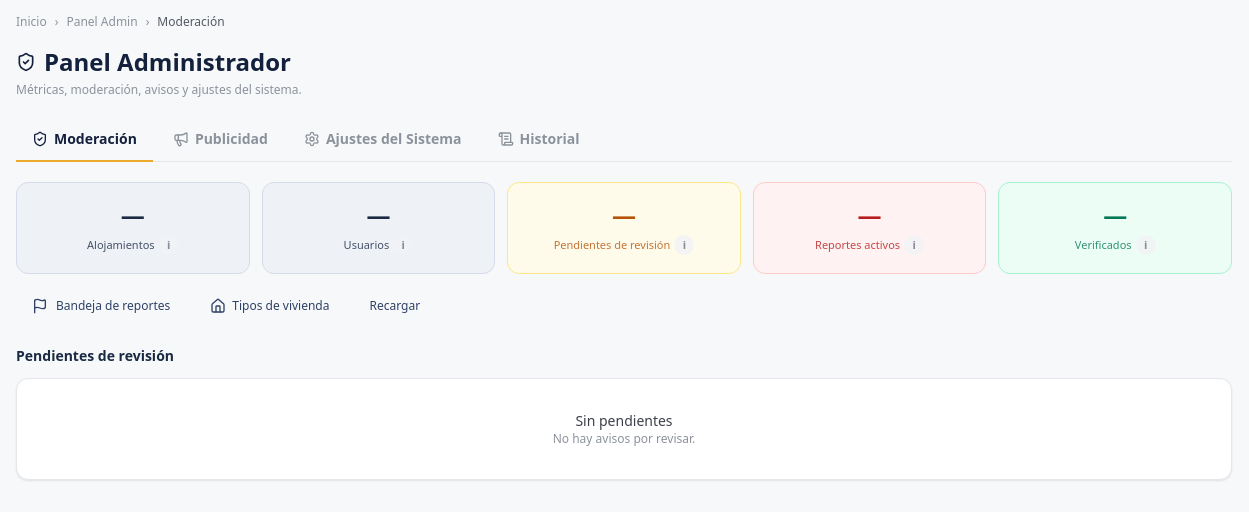
Test case: AdminDashboard - Ajustes del Sistema › M1 KPIs con usuarios + tooltips y badge PENDIENTE veraz
This screenshot has width=1249, height=512.
Check: the text "Usuarios" is shown, box [344,237,389,252]
Click the tab "Ajustes del Sistema" at point(383, 140), box [288,118,478,162]
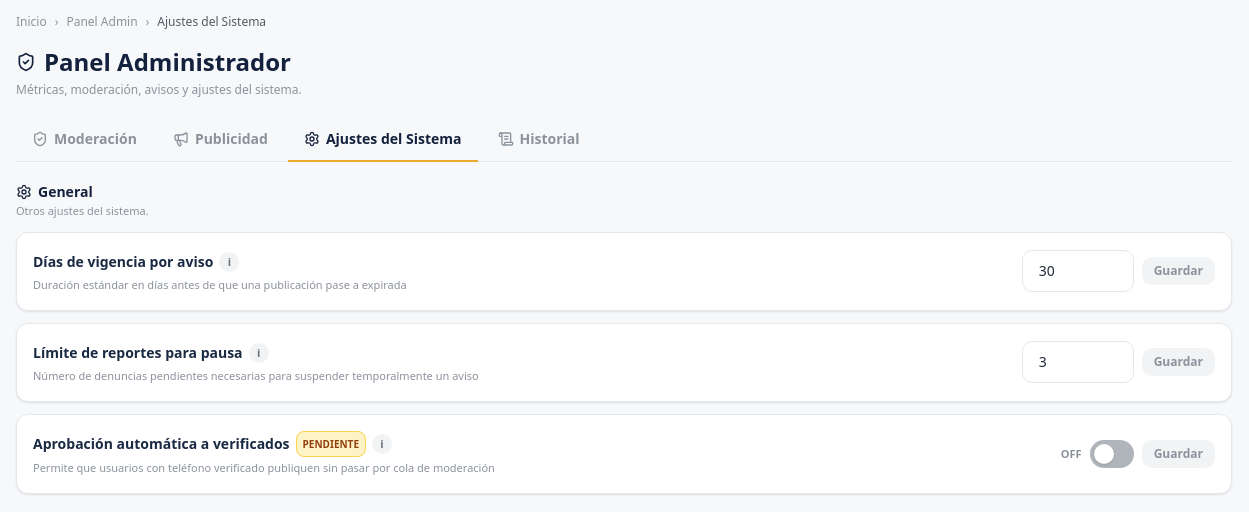
Check: the text "PENDIENTE" is shown, box [296,431,366,457]
Check: the text "Aprobación automática a verificados" is shown, box [33,434,290,453]
